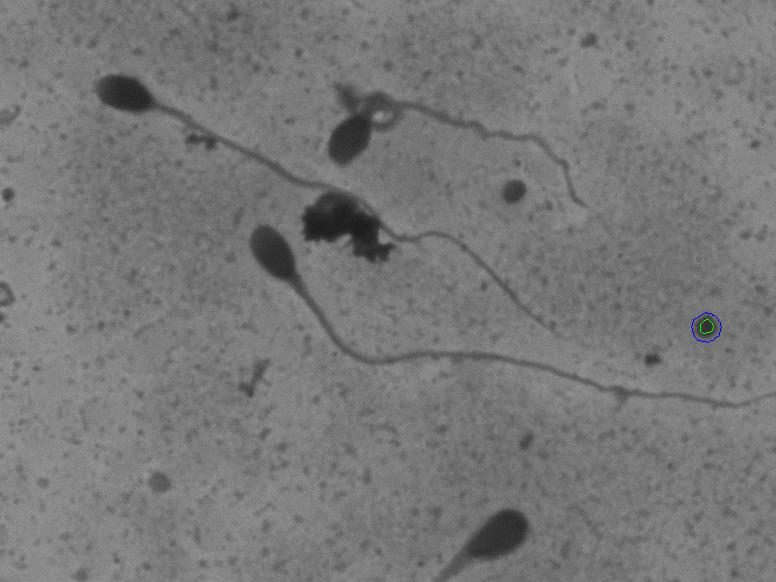Abnormal: (327, 77, 561, 169)
Normal: (83, 60, 580, 340), (215, 208, 752, 421)
